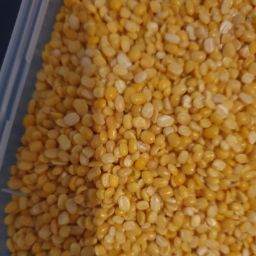Red Split Lentils(malka masar): (31, 3, 256, 256), (63, 46, 232, 238), (8, 84, 168, 256)
